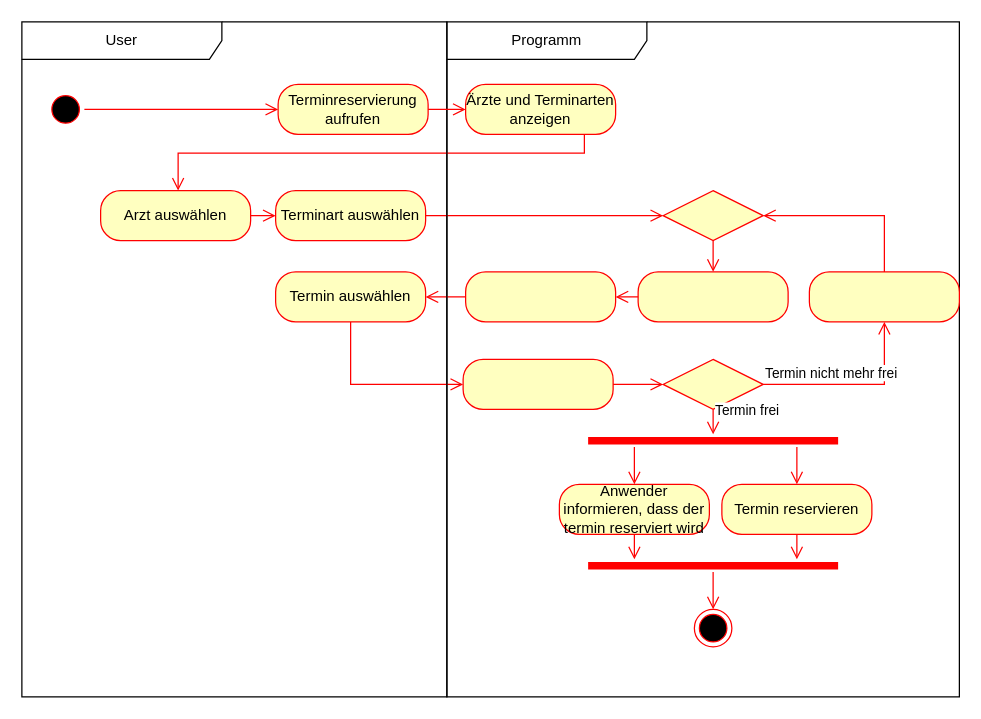
The diagram is 981 pixels wide and 719 high, and some of its shapes have lost their labels. Each missing label, with the box of its shape:
1. freien Termin ermitteln: (637, 271, 788, 322)
alle freien Termine im Monat des 1. freien Termins anzeigen: (464, 271, 616, 322)
Meldung ausgeben: (808, 271, 959, 322)
Überprüfen ob der Termin noch frei ist: (462, 358, 613, 409)
